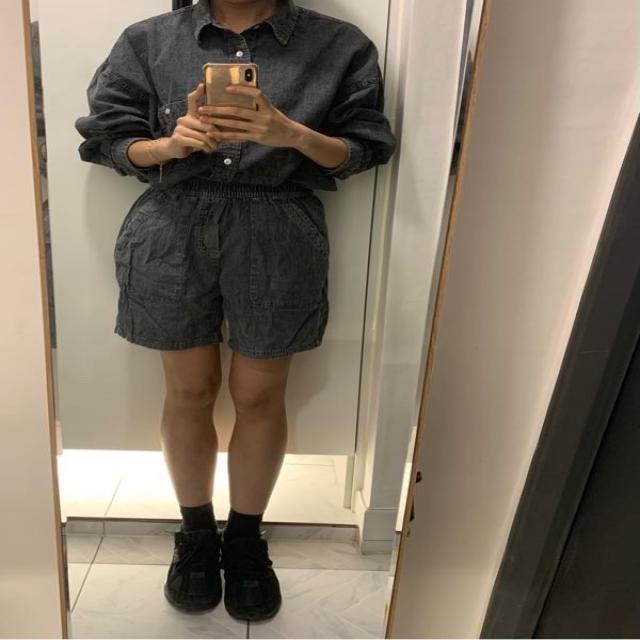shirt: (74, 0, 394, 195)
shortpants: (116, 177, 339, 359)
